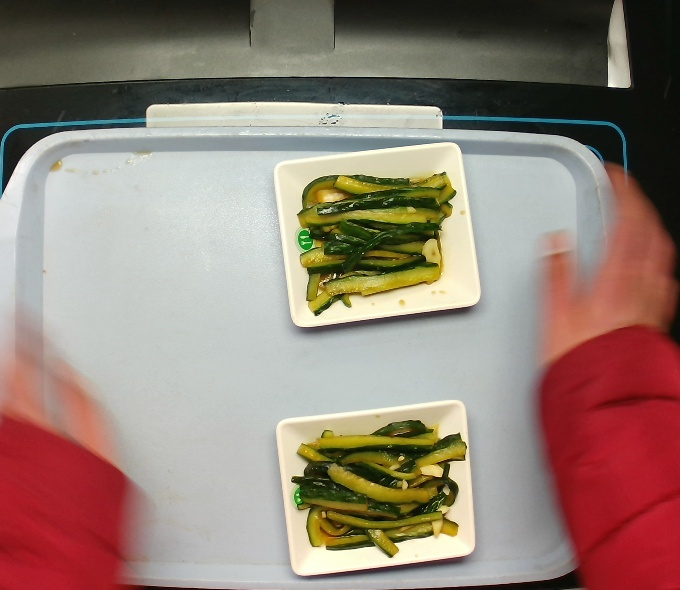wcq-LiangBanHuangGua: (289, 158, 473, 317), (288, 409, 471, 558)
